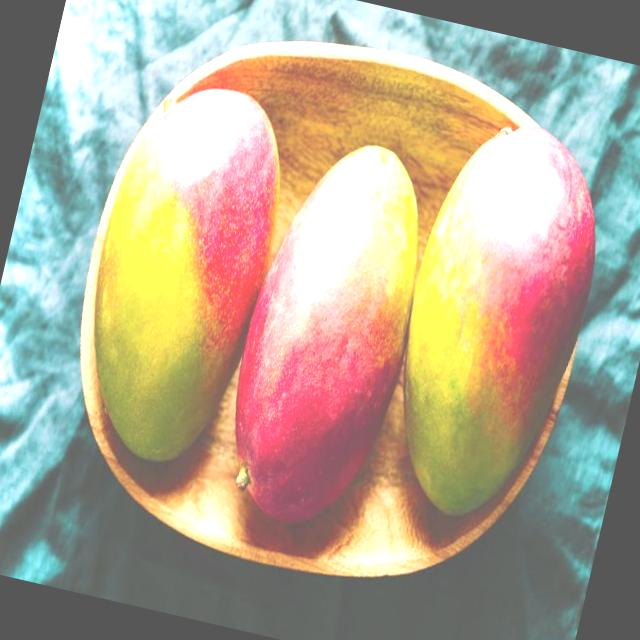Mango: (366, 112, 624, 531), (207, 128, 444, 537), (58, 69, 295, 472)
